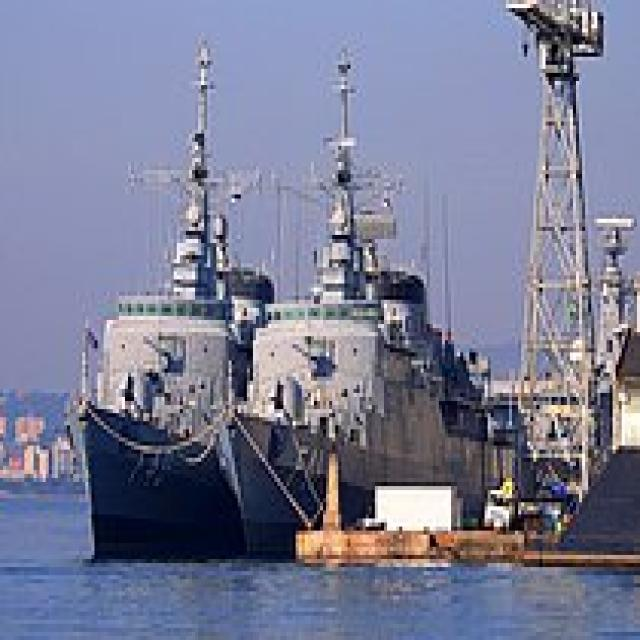Warship: (216, 36, 503, 559), (73, 28, 274, 563)
